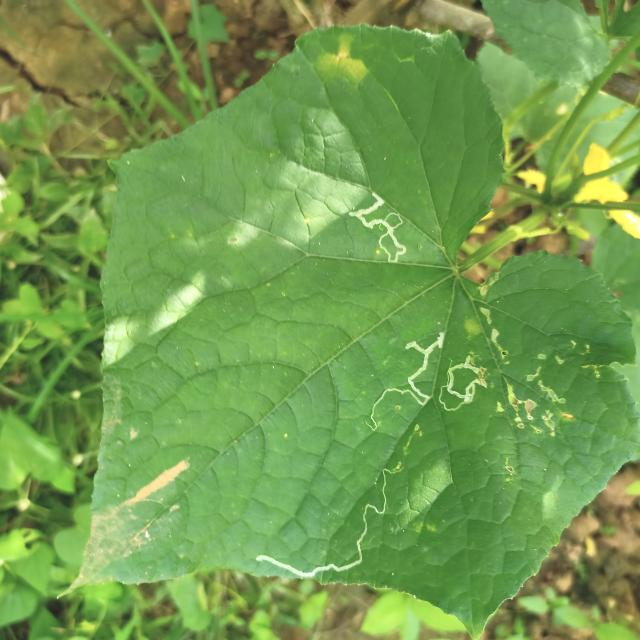disease_cucumber: (315, 28, 370, 86)
